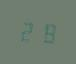eight: (37, 19, 54, 45)
two: (19, 18, 36, 43)
